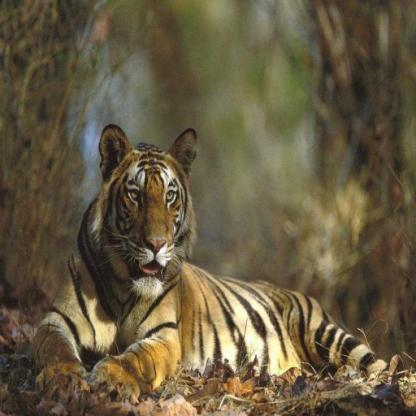Tiger: (26, 115, 413, 411)
